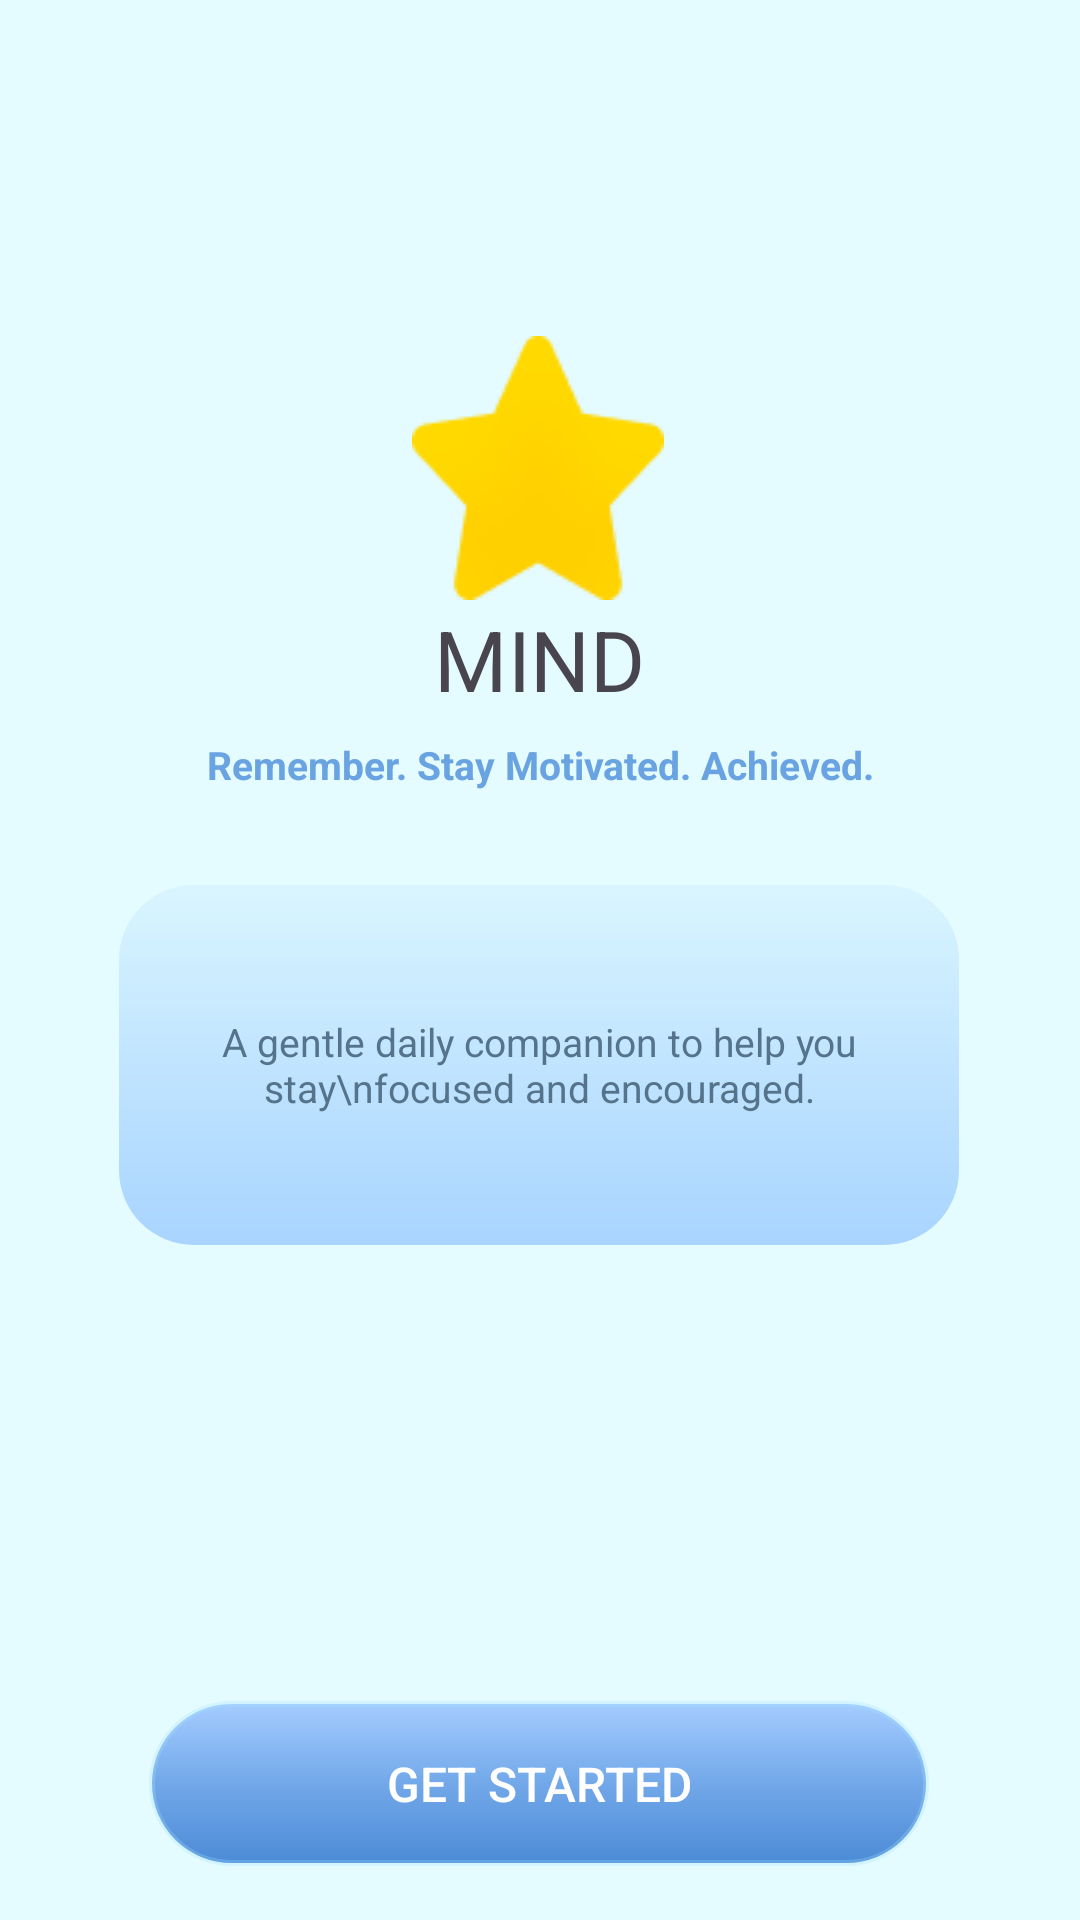

Point at icon controls on the screen. Image size 1080px x 1920px, points as (x,y).
star: (538,468)
